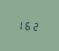one: (18, 19, 24, 30)
six: (26, 19, 32, 31)
two: (33, 20, 39, 31)
